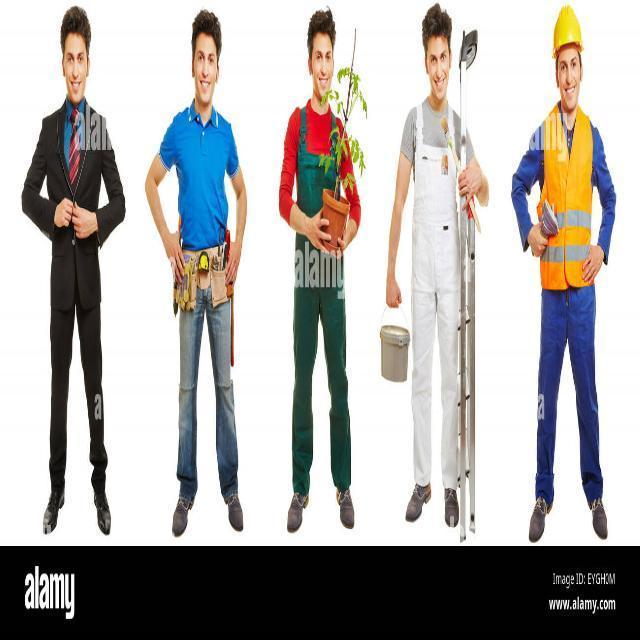No_Goggles: (64, 46, 87, 71), (311, 46, 334, 68), (194, 52, 217, 72), (558, 57, 580, 77), (427, 48, 449, 66)
No_Helmet: (57, 3, 95, 45), (188, 5, 222, 45), (420, 2, 452, 43), (308, 8, 337, 45)
